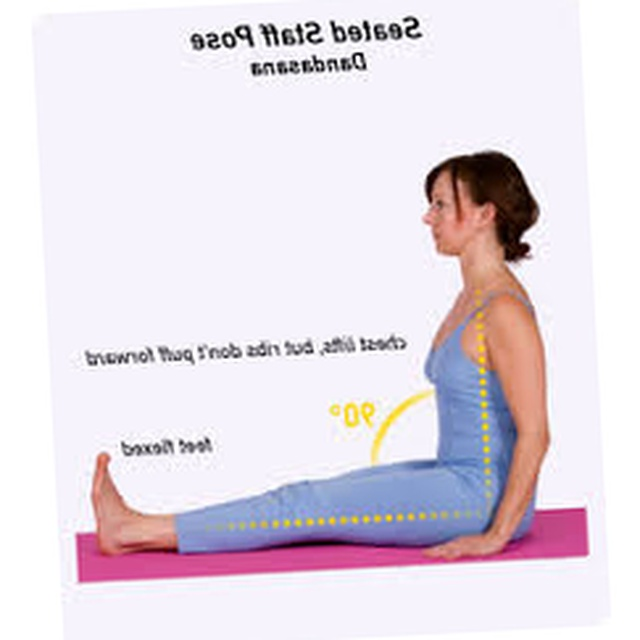Staff_Pose: (92, 147, 552, 558)
